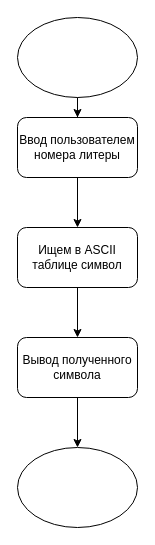
Image size: 155x545. Some labels were removed from this diagram. Each missing label, with the centre of its shape:
конец: the point at 77,487
начало: the point at 77,57
